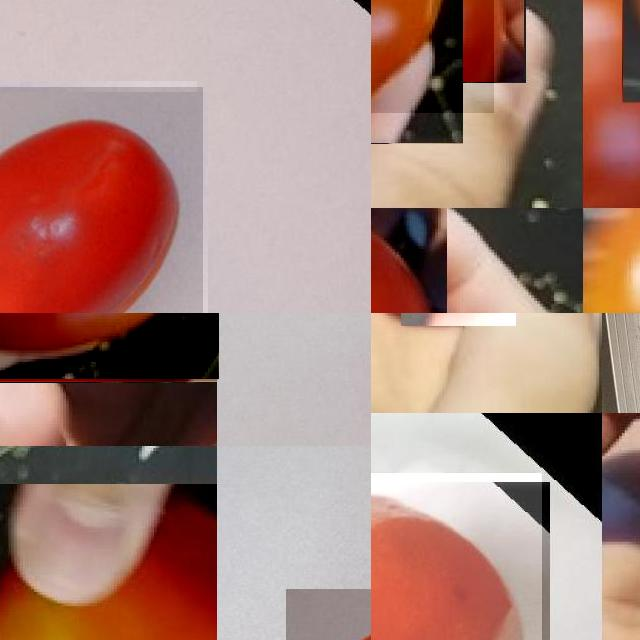0: (0, 86, 202, 313)
Fresh Tomato: (0, 484, 217, 640), (0, 313, 218, 380), (371, 0, 494, 113), (583, 0, 640, 208)
Rotten Tomato: (371, 473, 542, 640)
